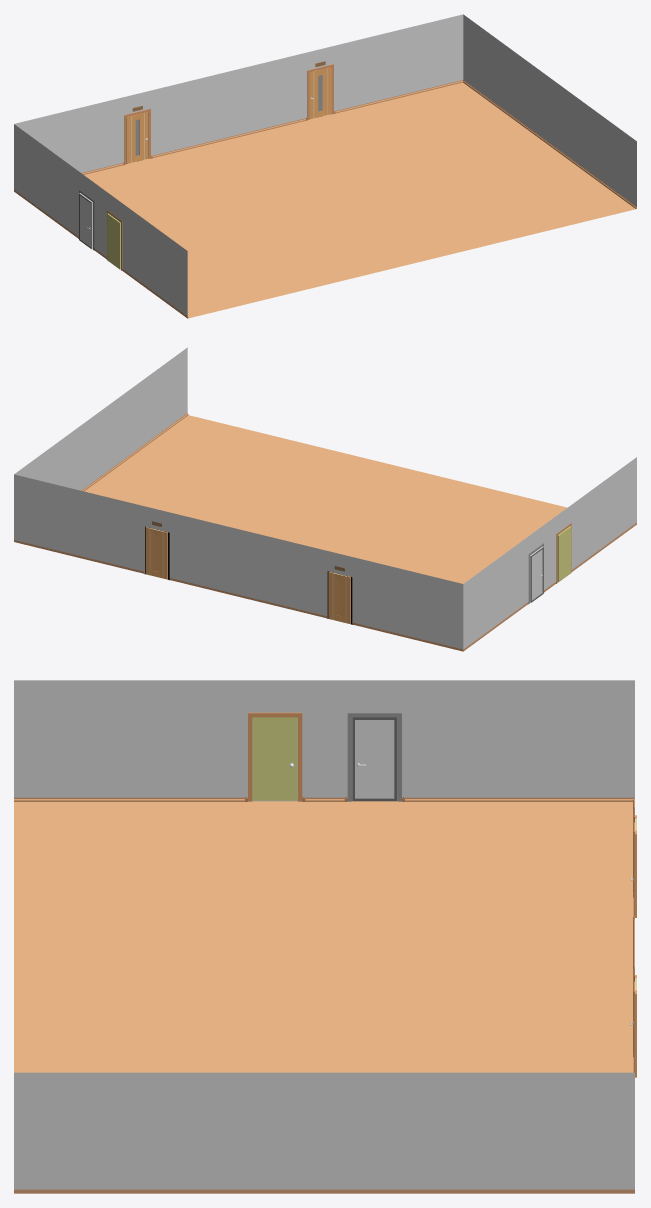
File: MainRoom.fbx
3 views of the same model, one above another, from view 1: azimuth 30°, elevation 25°; view 2: azimuth 150°, elevation 25°; view 3: azimuth 270°, elevation 25° (orthographic). The views are drawn at different scales.
Visible parts, largest first — view 1: Main Room Floor, Trimming, Breakroom Door, Office Door, Greenhouse Door, Coldroom Door (Seperate); view 2: Main Room Floor, Trimming, Breakroom Door, Office Door, Greenhouse Door, Coldroom Door (Seperate); view 3: Main Room Floor, Trimming, Greenhouse Door, Coldroom Door (Seperate), Coldroom Door.
Boxes of the visible parts, bbox=[...] form: Main Room Floor: bbox=[14, 14, 636, 318]; Trimming: bbox=[14, 80, 636, 318]; Breakroom Door: bbox=[307, 64, 333, 119]; Office Door: bbox=[124, 108, 150, 164]; Greenhouse Door: bbox=[107, 210, 122, 270]; Coldroom Door (Seperate): bbox=[79, 193, 92, 249]; Main Room Floor: bbox=[14, 347, 636, 649]; Trimming: bbox=[14, 413, 636, 651]; Breakroom Door: bbox=[144, 527, 169, 580]; Office Door: bbox=[327, 572, 352, 624]; Greenhouse Door: bbox=[556, 523, 571, 583]; Coldroom Door (Seperate): bbox=[530, 546, 543, 602]; Main Room Floor: bbox=[14, 680, 634, 1189]; Trimming: bbox=[14, 796, 634, 1193]; Greenhouse Door: bbox=[248, 712, 302, 801]; Coldroom Door (Seperate): bbox=[352, 717, 397, 801]; Coldroom Door: bbox=[347, 712, 401, 801].
Bounding box in the file's own units: 4197 × 603 × 2803.
